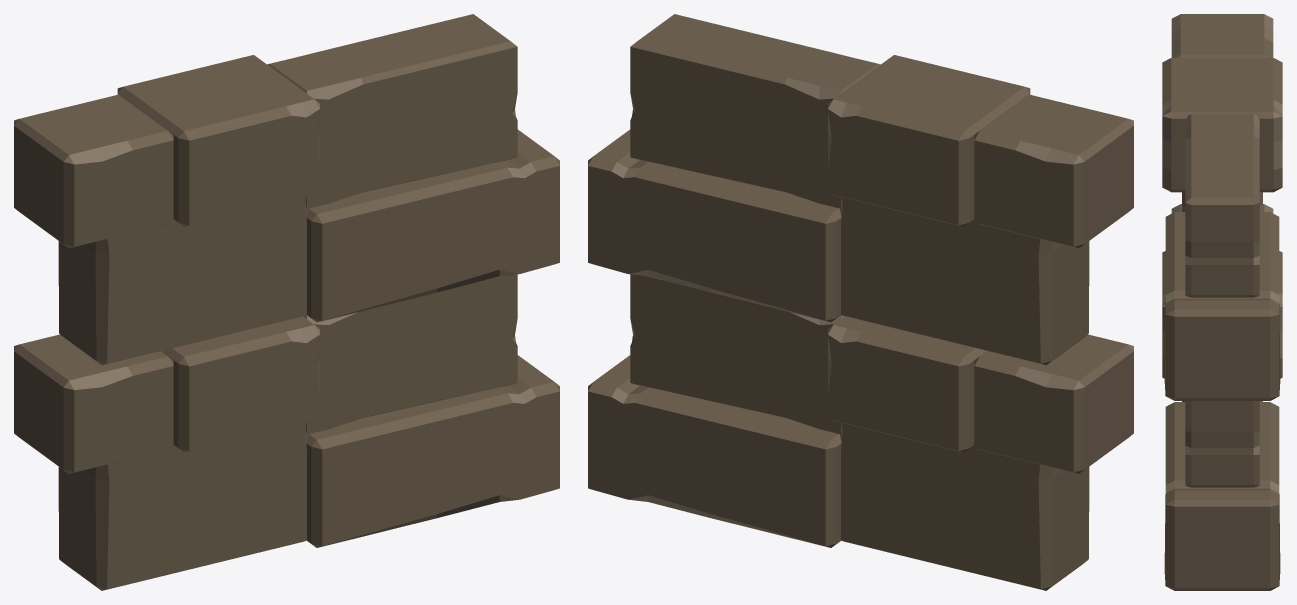
File: quaternius-modular-dungeon-updated-decorative-wall.glb
3 views of the same model, side by side, from view 1: azimuth 30°, elevation 25°; view 2: azimuth 150°, elevation 25°; view 3: azimuth 270°, elevation 25° (orthographic). The views are drawn at different scales.
Visible parts, largest first — view 1: Decorative_Wall; view 2: Decorative_Wall; view 3: Decorative_Wall.
Part boxes in pixels (x1,y1,x2,y2): Decorative_Wall: [14, 14, 559, 590]; Decorative_Wall: [588, 14, 1133, 590]; Decorative_Wall: [1162, 14, 1282, 590].
Bounding box in the file's own units: 1.74 × 1.52 × 0.438.
